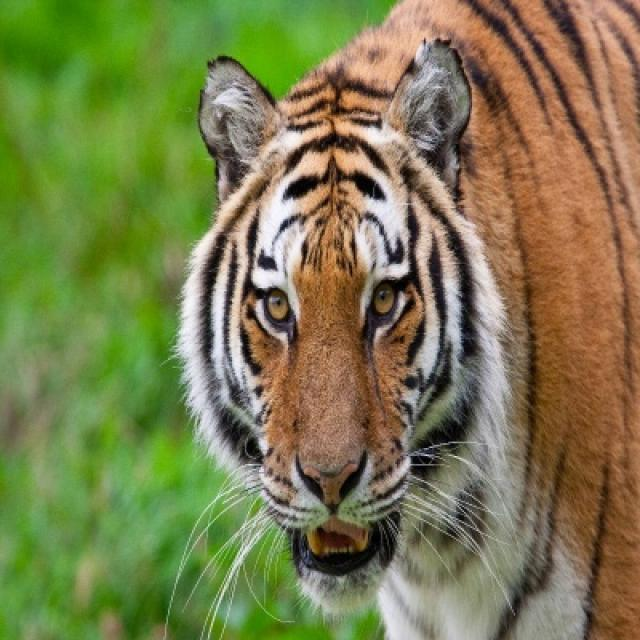Tiger: (172, 1, 638, 638)
